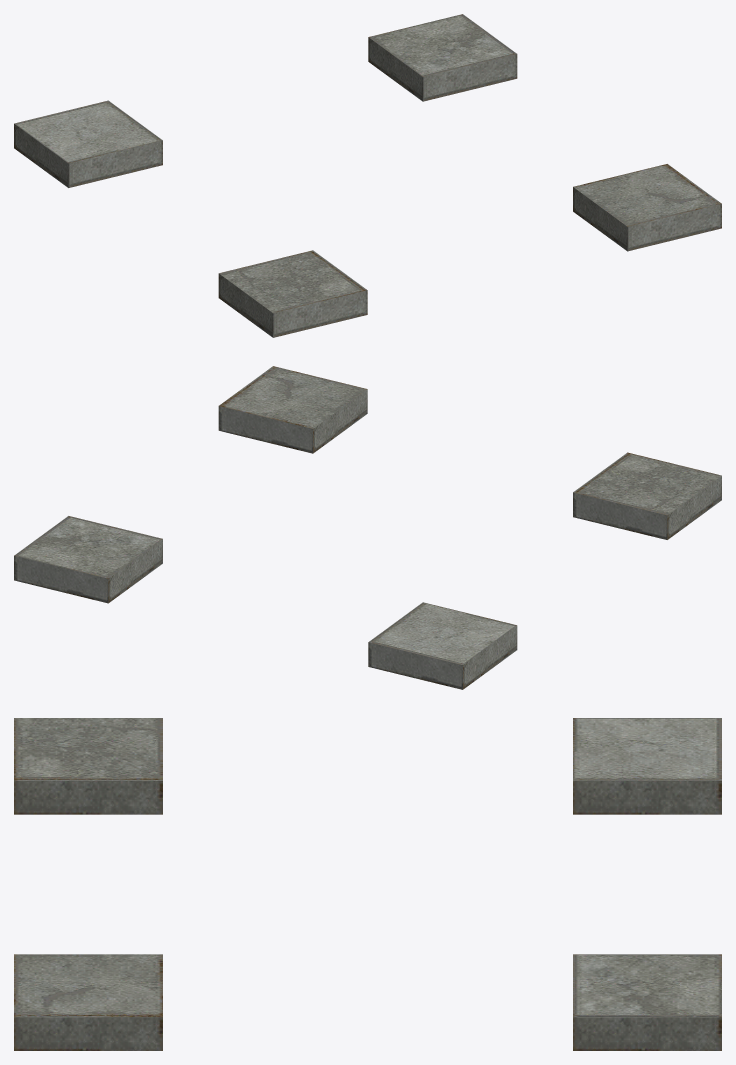
The model's file is plinth_4.fbx.
3 views of the same model, one above another, from view 1: azimuth 30°, elevation 25°; view 2: azimuth 150°, elevation 25°; view 3: azimuth 270°, elevation 25° (orthographic). The views are drawn at different scales.
Visible parts, largest first — view 1: plinth_4; view 2: plinth_4; view 3: plinth_4.
Boxes of the visible parts, <box> form: plinth_4: <box>14,14,721,337</box>; plinth_4: <box>14,366,721,689</box>; plinth_4: <box>14,718,721,1050</box>.
Bounding box in the file's own units: 190 × 10 × 190.
